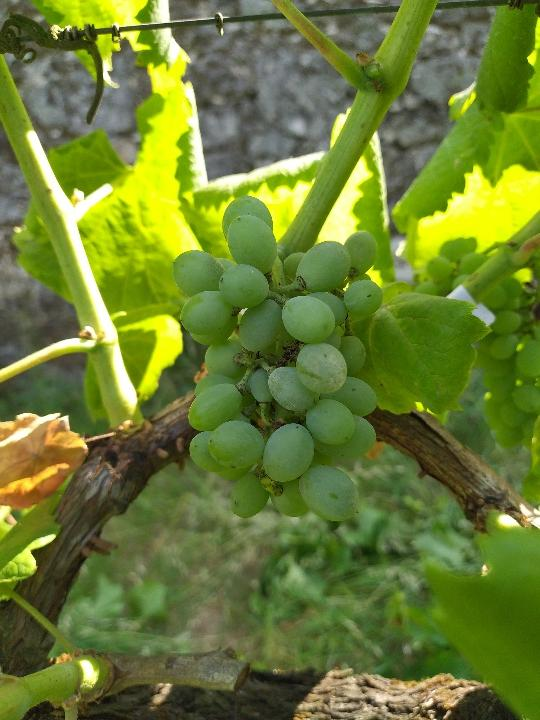grape: (167, 192, 384, 525)
